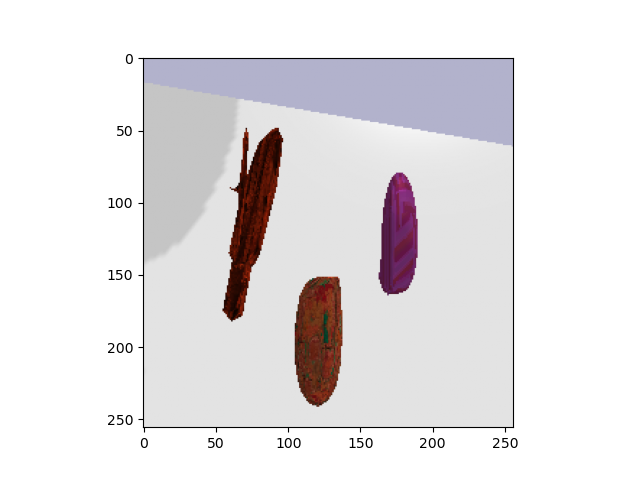v249b387_106: (290, 270, 349, 415)
v249b387_107: (220, 118, 285, 326), (373, 167, 428, 299)
